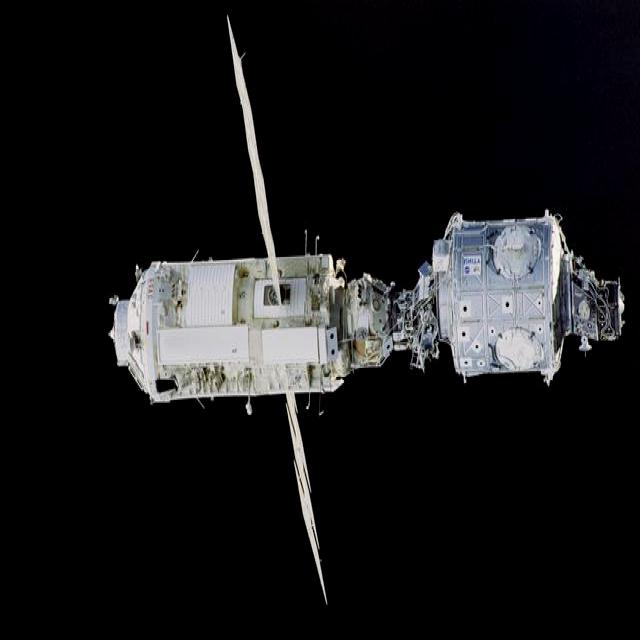satellite: (111, 21, 624, 600)
